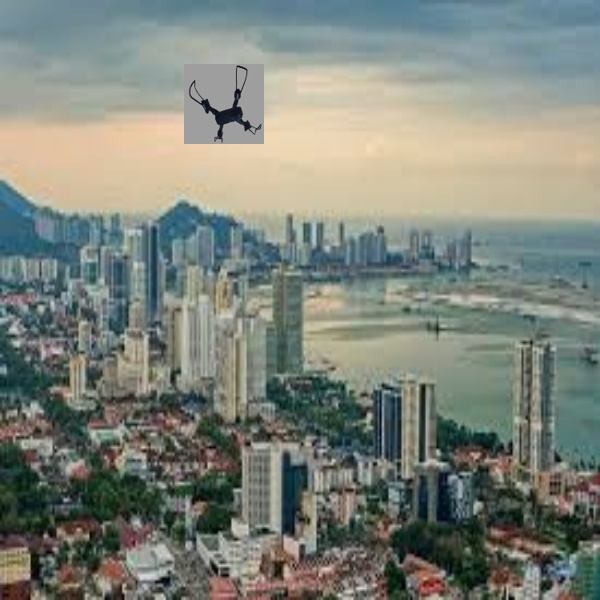drone: (184, 65, 266, 148)
